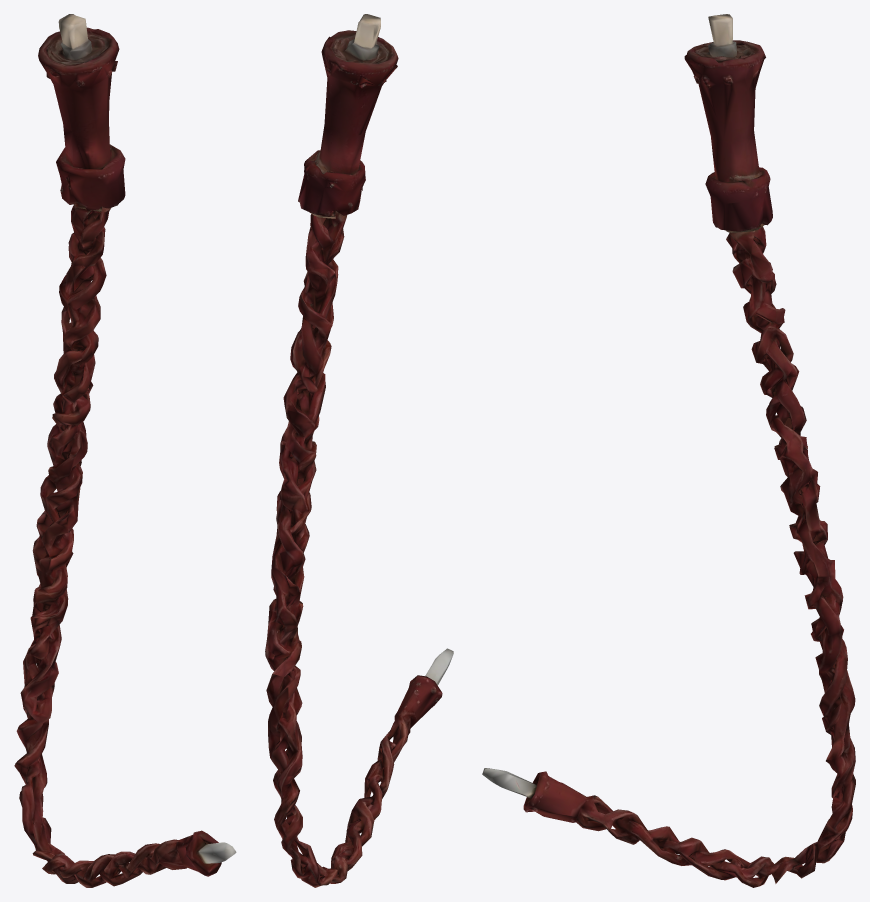
File: whip.glb
The picture shows the model from 3 angles, left to right: view 1: azimuth 30°, elevation 25°; view 2: azimuth 150°, elevation 25°; view 3: azimuth 270°, elevation 25°; orthographic projection. The views are drawn at different scales.
Parts seen in each view (by area): view 1: whip; view 2: whip; view 3: whip.
Boxes of the visible parts, box(x1,y1,x2,y2) form: whip: box(14, 14, 236, 887); whip: box(265, 14, 453, 887); whip: box(482, 14, 855, 887).
Bounding box in the file's own units: 0.1003 × 0.9999 × 0.3921.
1 material, 1 textured.
